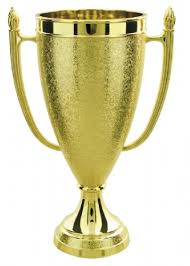trophy: (8, 6, 178, 264)
